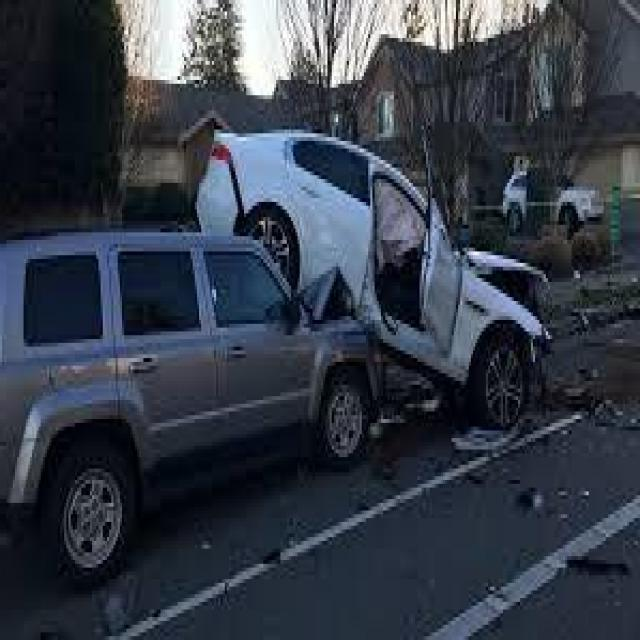accident: (638, 1, 640, 4)
